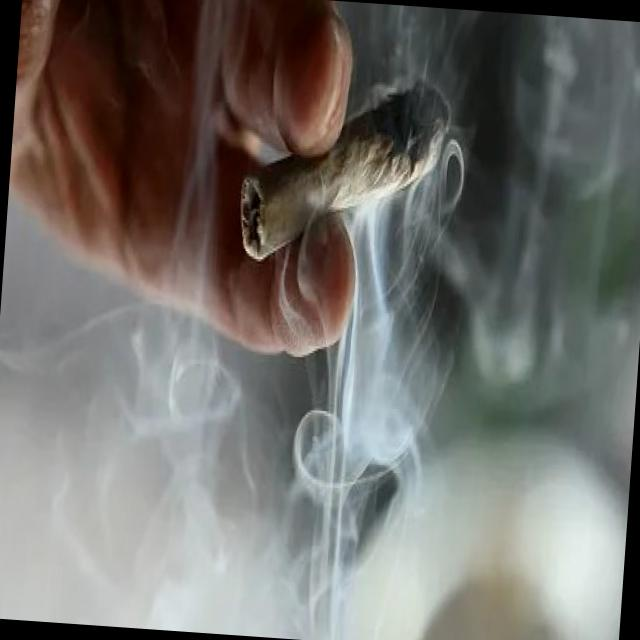cigarette: (224, 44, 466, 286)
